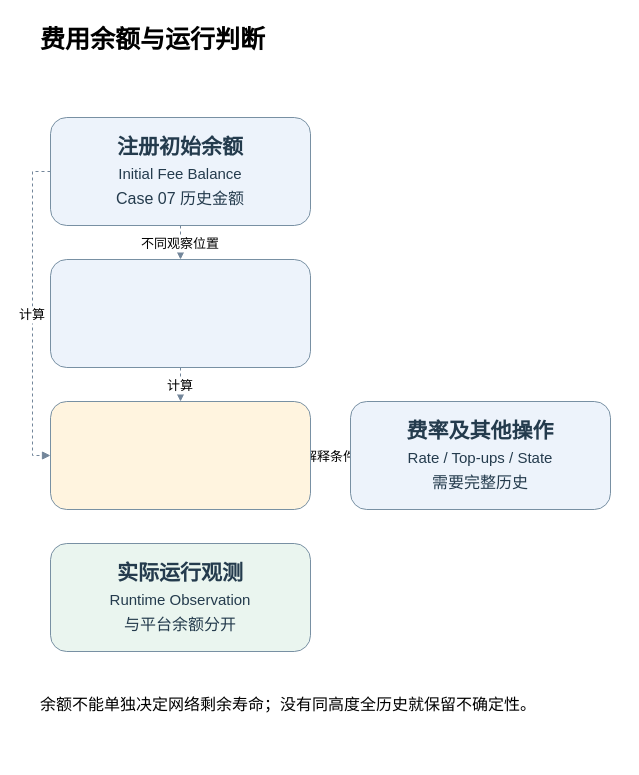
Image size: 639x775. Some labels were removed from this diagram. The centre of each missing label's shape, as x and y in pixels:
余额差计算 Derived Difference 不独立证明全部扣费: point (180, 455)
后续观测余额 Observed Balance 检索时间独立: point (180, 313)
